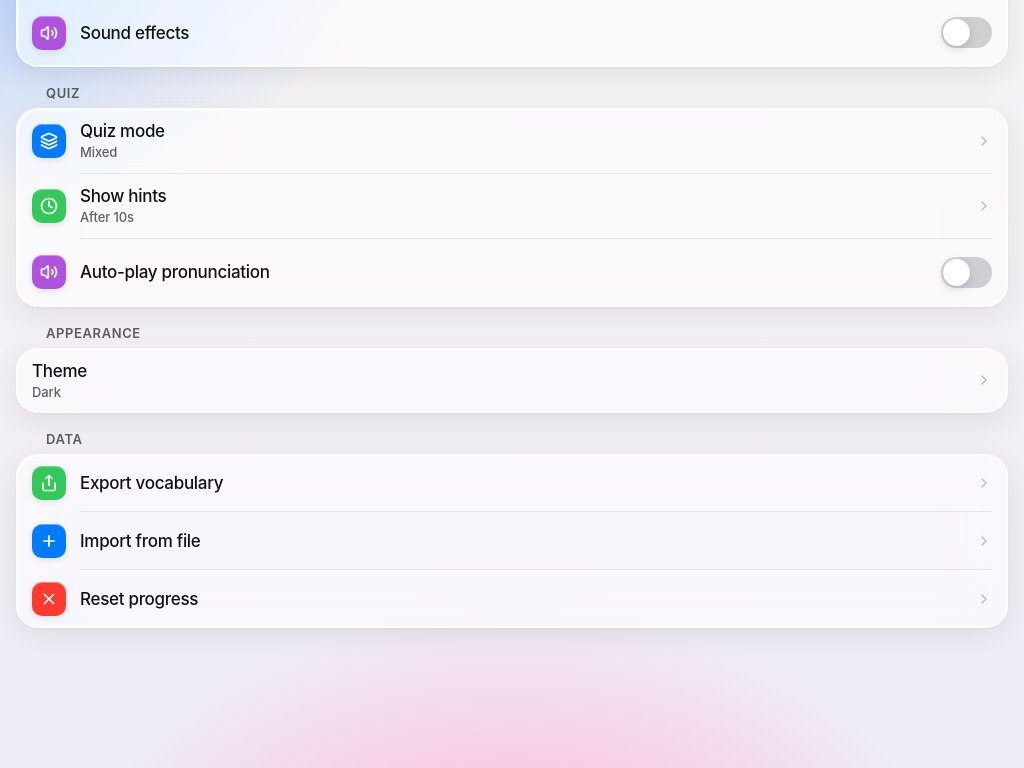
Test: SettingsScreen › should open reset progress iOS alert when Reset progress row is tapped
This screenshot has width=1024, height=768.
(page scrolled)
Step 1. Click the button "Reset progress" → click(49, 599), box [16,570,1008,628]
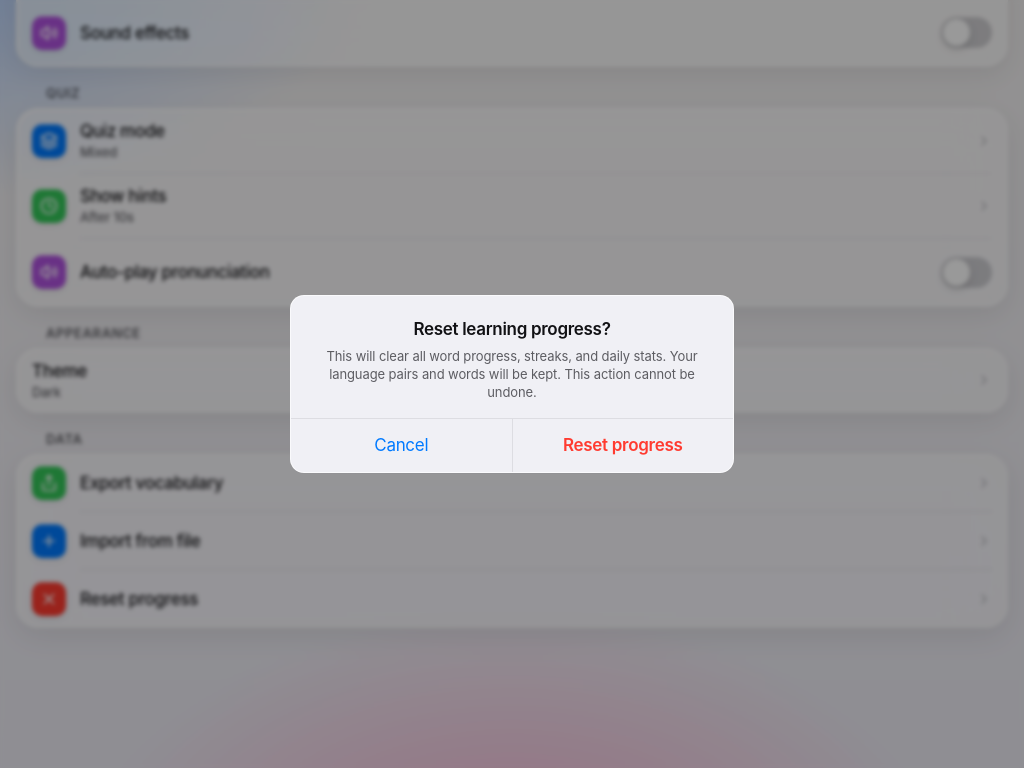
Expected: the heading "Reset learning progress?" is shown, [413,319,611,339]
Expected: the text "Your language pairs and words will be kept" is shown, [326,348,698,400]
